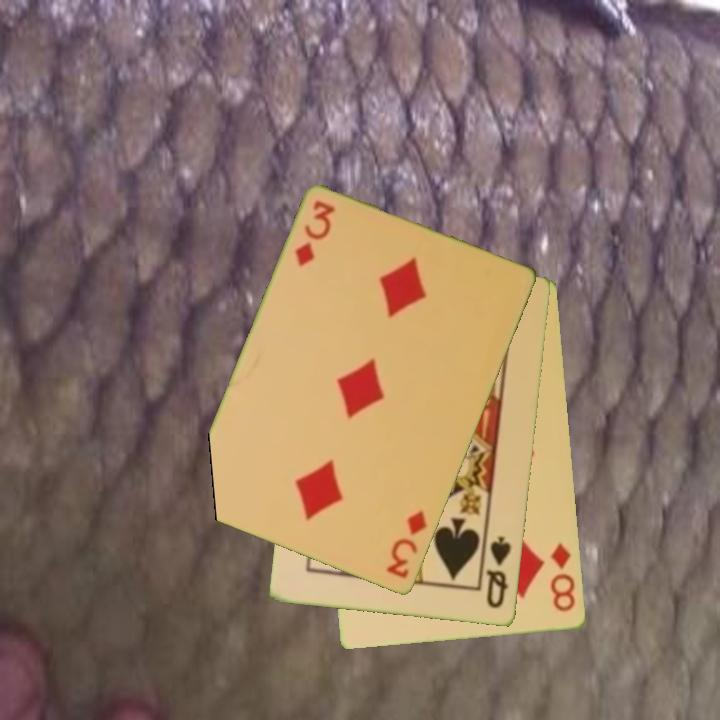3d: (383, 507, 430, 582), (292, 197, 338, 270)
8d: (547, 540, 579, 615)
Qs: (483, 533, 515, 612)
